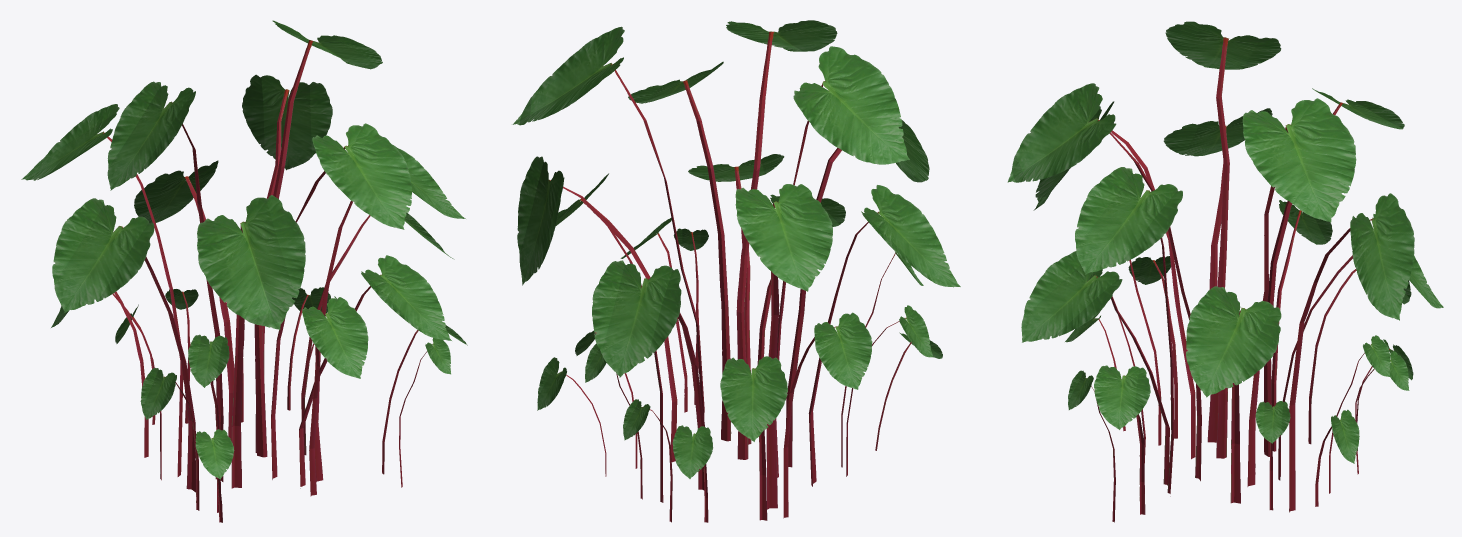
File: Colocasia1.fbx
3 renders of one model, left to right at view 1: azimuth 30°, elevation 25°; view 2: azimuth 150°, elevation 25°; view 3: azimuth 270°, elevation 25°, orthographic. The views are drawn at different scales.
Visible parts, largest first — view 1: Colocasia.002; view 2: Colocasia.002; view 3: Colocasia.002.
Boxes of the visible parts, <box> form: Colocasia.002: <box>21,20,467,522</box>; Colocasia.002: <box>512,20,960,522</box>; Colocasia.002: <box>1007,21,1443,522</box>.
Bounding box in the file's own units: 287 × 289 × 267.
